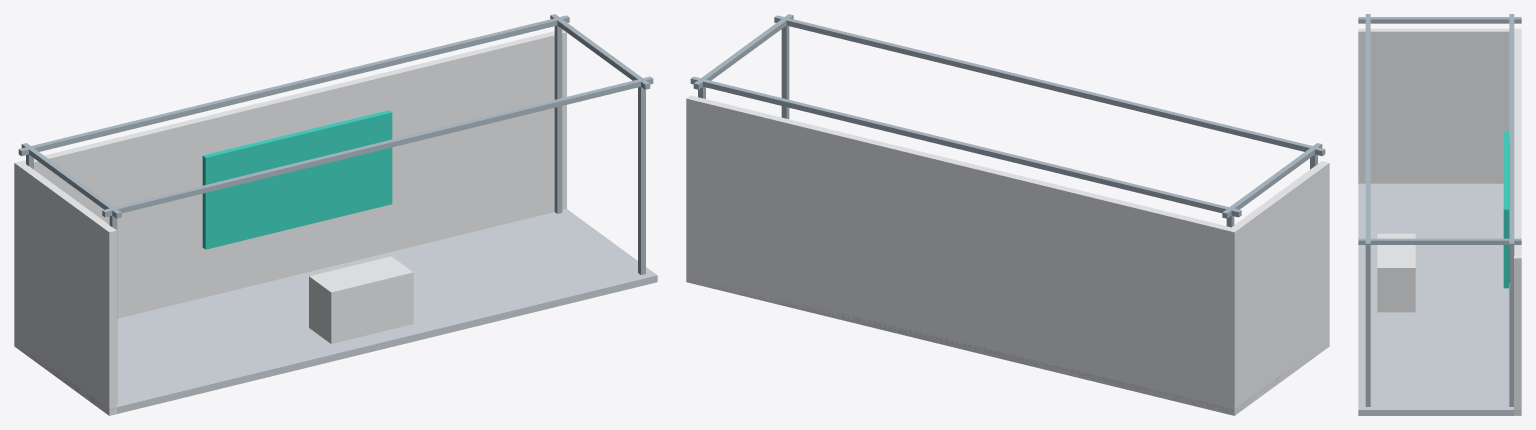
3 views of the same model, side by side, from view 1: azimuth 30°, elevation 25°; view 2: azimuth 150°, elevation 25°; view 3: azimuth 270°, elevation 25° (orthographic). The views are drawn at different scales.
Visible parts, largest first — view 1: Exhibition Booth Concept; view 2: Exhibition Booth Concept; view 3: Exhibition Booth Concept.
Part boxes in pixels (x1,y1,x2,y2): Exhibition Booth Concept: (14, 14, 657, 415); Exhibition Booth Concept: (686, 14, 1329, 415); Exhibition Booth Concept: (1358, 14, 1521, 415).
Bounding box in the file's own units: 10 × 3.49 × 3.
